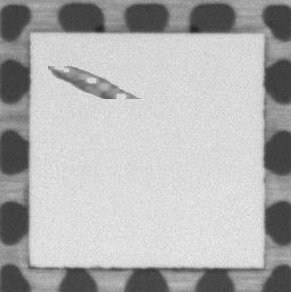DIE_INK: (48, 66, 138, 99)
